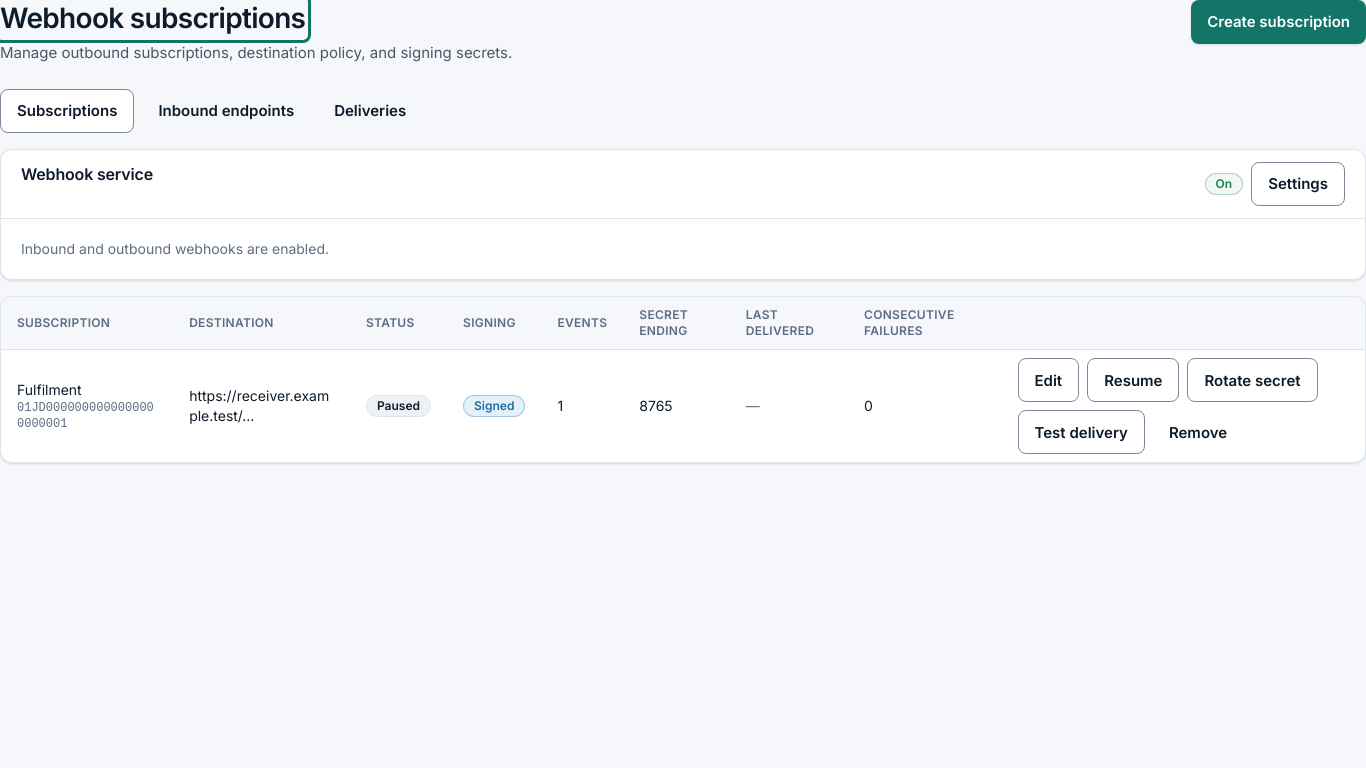
Test: Webhooks administration › includes the visible Test delivery label in the subscription action's accessible name
Click the button "Test delivery": (1081, 432) [1018,410,1145,454]
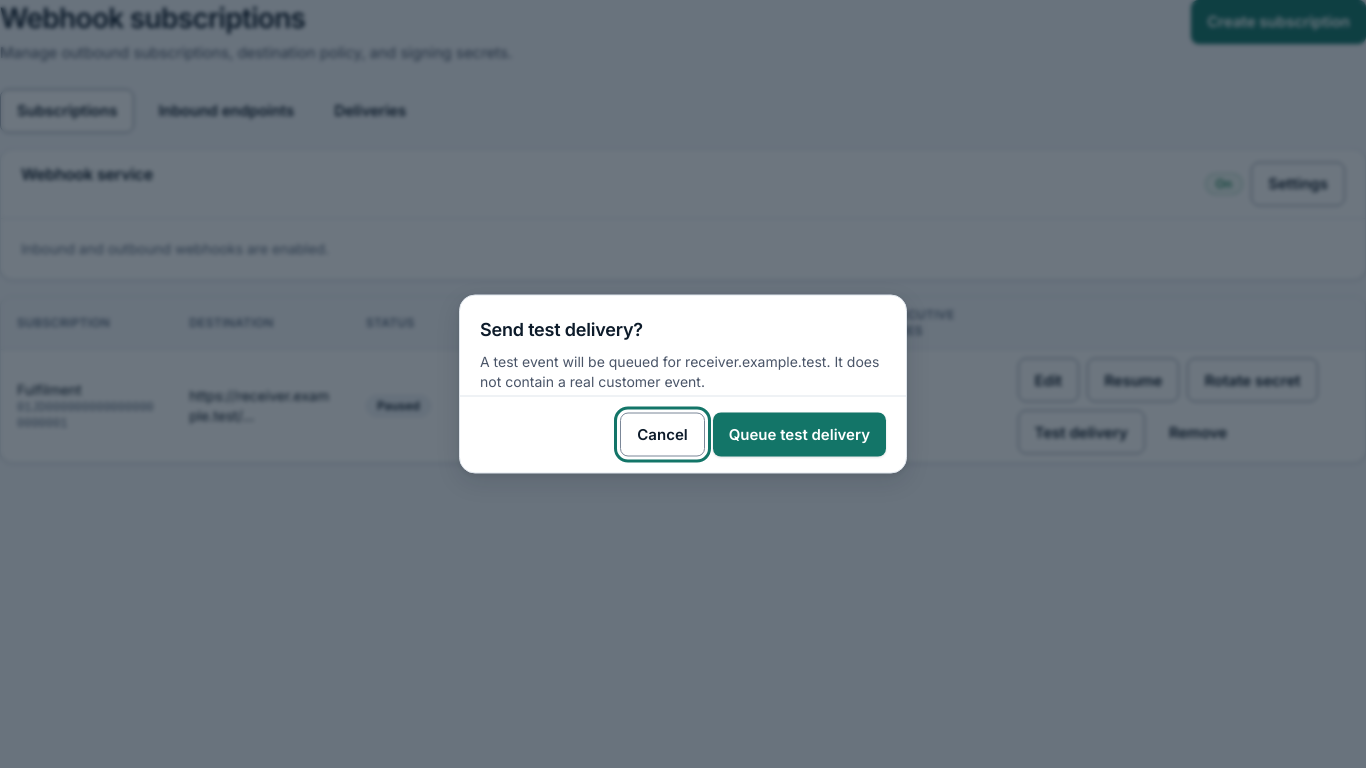
Expected: the dialog "Send test delivery?" is shown, [459,294,907,474]
